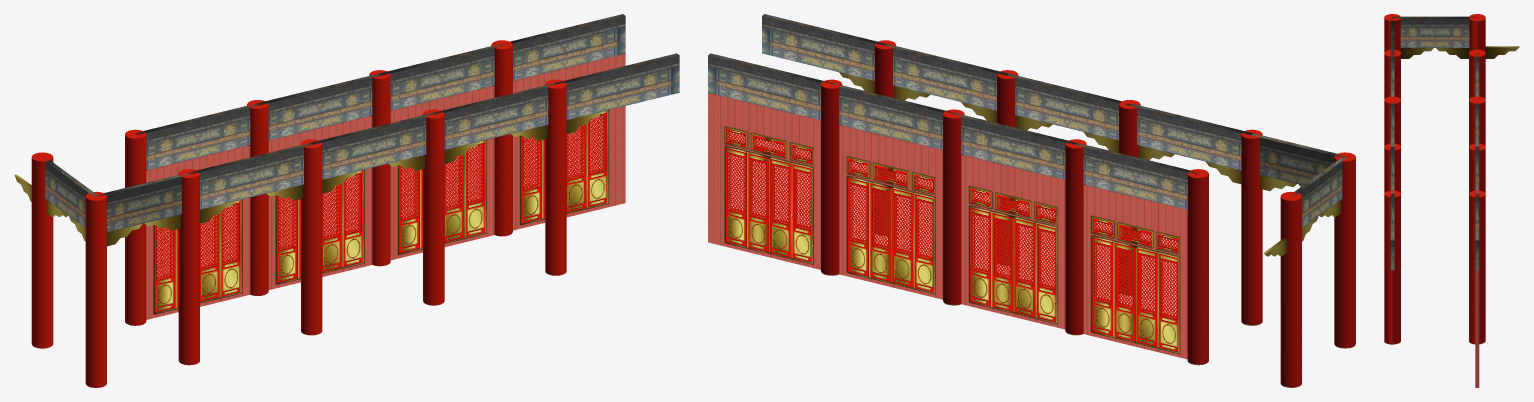
The model's file is cornerwallwallwallwall.dae.
3 views of the same model, side by side, from view 1: azimuth 30°, elevation 25°; view 2: azimuth 150°, elevation 25°; view 3: azimuth 270°, elevation 25° (orthographic). The views are drawn at different scales.
Parts seen in each view (by area): view 1: MainNode; view 2: MainNode; view 3: MainNode.
Boxes of the visible parts, x1,y1,x2,y2 form: MainNode: [14, 14, 679, 387]; MainNode: [708, 14, 1355, 387]; MainNode: [1384, 14, 1519, 387].
Size of the model in its own units: 15.87 by 4.8 by 4.
Materials: 1 (1 with a texture image).
